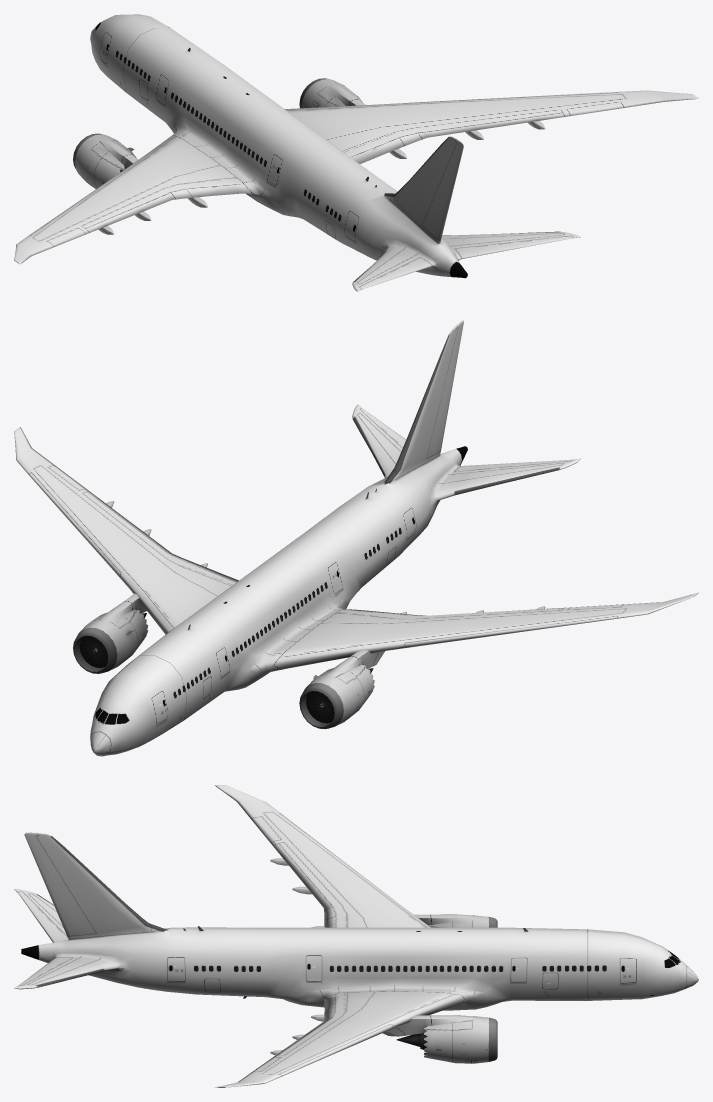
Rendered from boeing_787.gltf.
The picture shows the model from 3 angles, top to bottom: view 1: azimuth 30°, elevation 25°; view 2: azimuth 150°, elevation 25°; view 3: azimuth 270°, elevation 25°; orthographic projection. The views are drawn at different scales.
Visible parts, largest first — view 1: fuselage, engine, aileron; view 2: fuselage, engine; view 3: fuselage, engine.
Boxes of the visible parts, x1,y1,x2,y2 form: fuselage: (14, 14, 698, 291); engine: (73, 78, 365, 188); aileron: (98, 121, 545, 234); fuselage: (14, 320, 698, 756); engine: (73, 593, 384, 728); fuselage: (14, 785, 698, 1087); engine: (382, 914, 497, 1063).
Bounding box in the file's own units: 58.62 × 16.16 × 56.13.
1 material, 1 textured.
